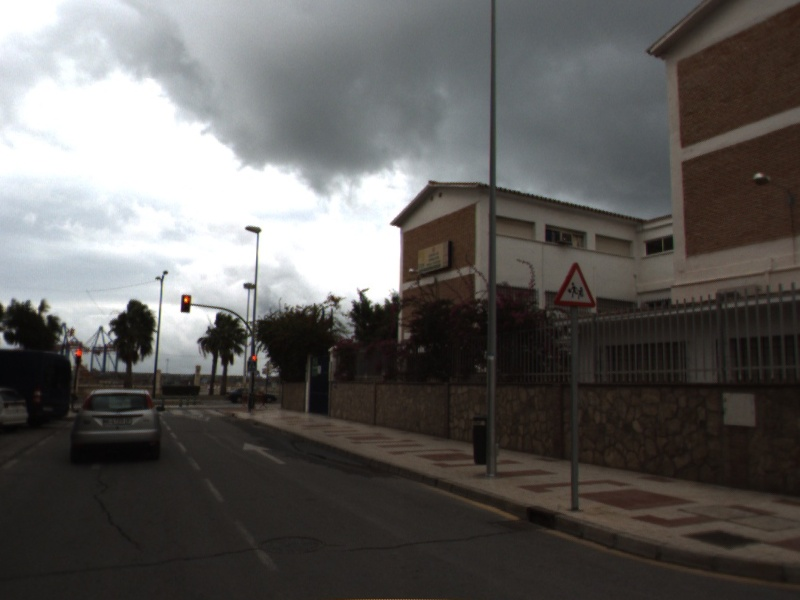STRAIGHT: (241, 440, 290, 466)
